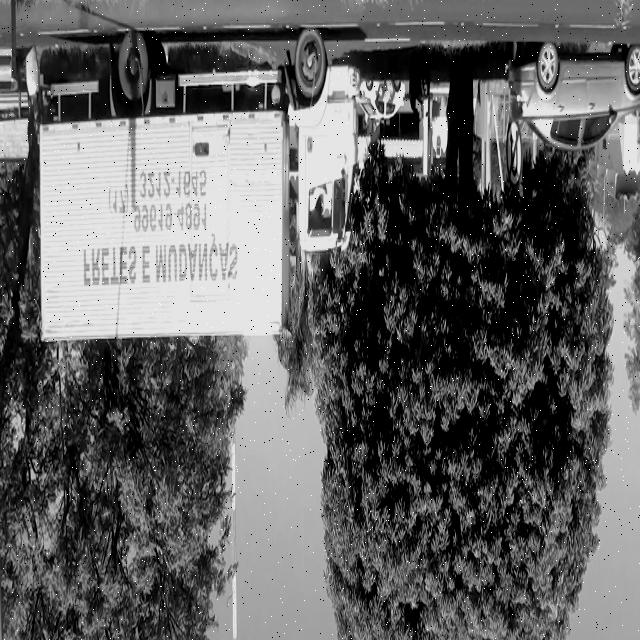-axle: (293, 29, 328, 95), (118, 30, 149, 100)
